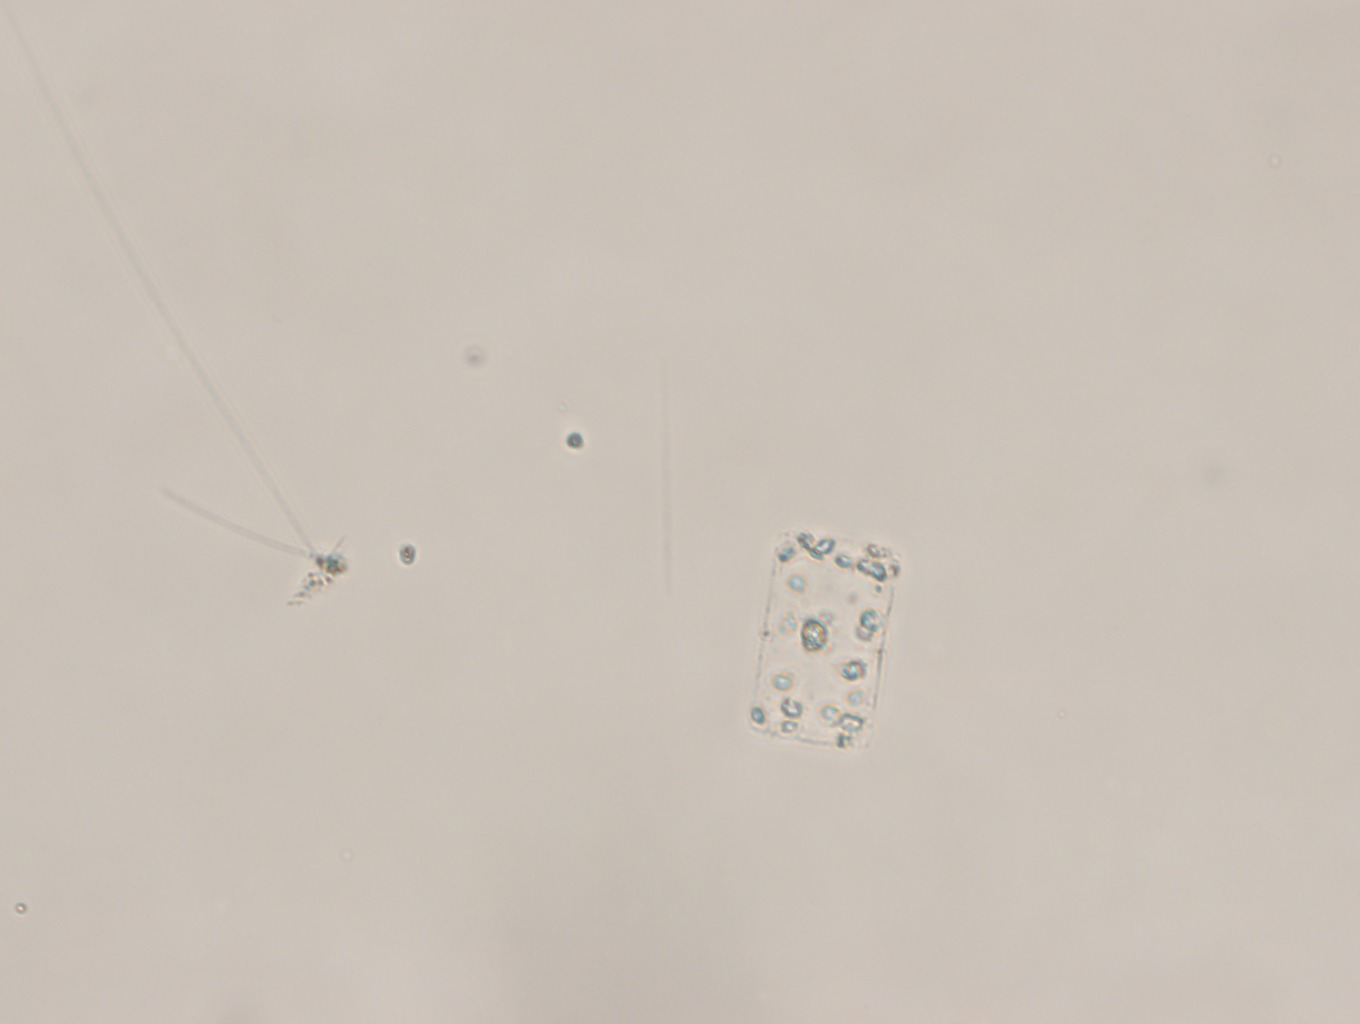guinardia flaccida: (734, 523, 907, 763)
